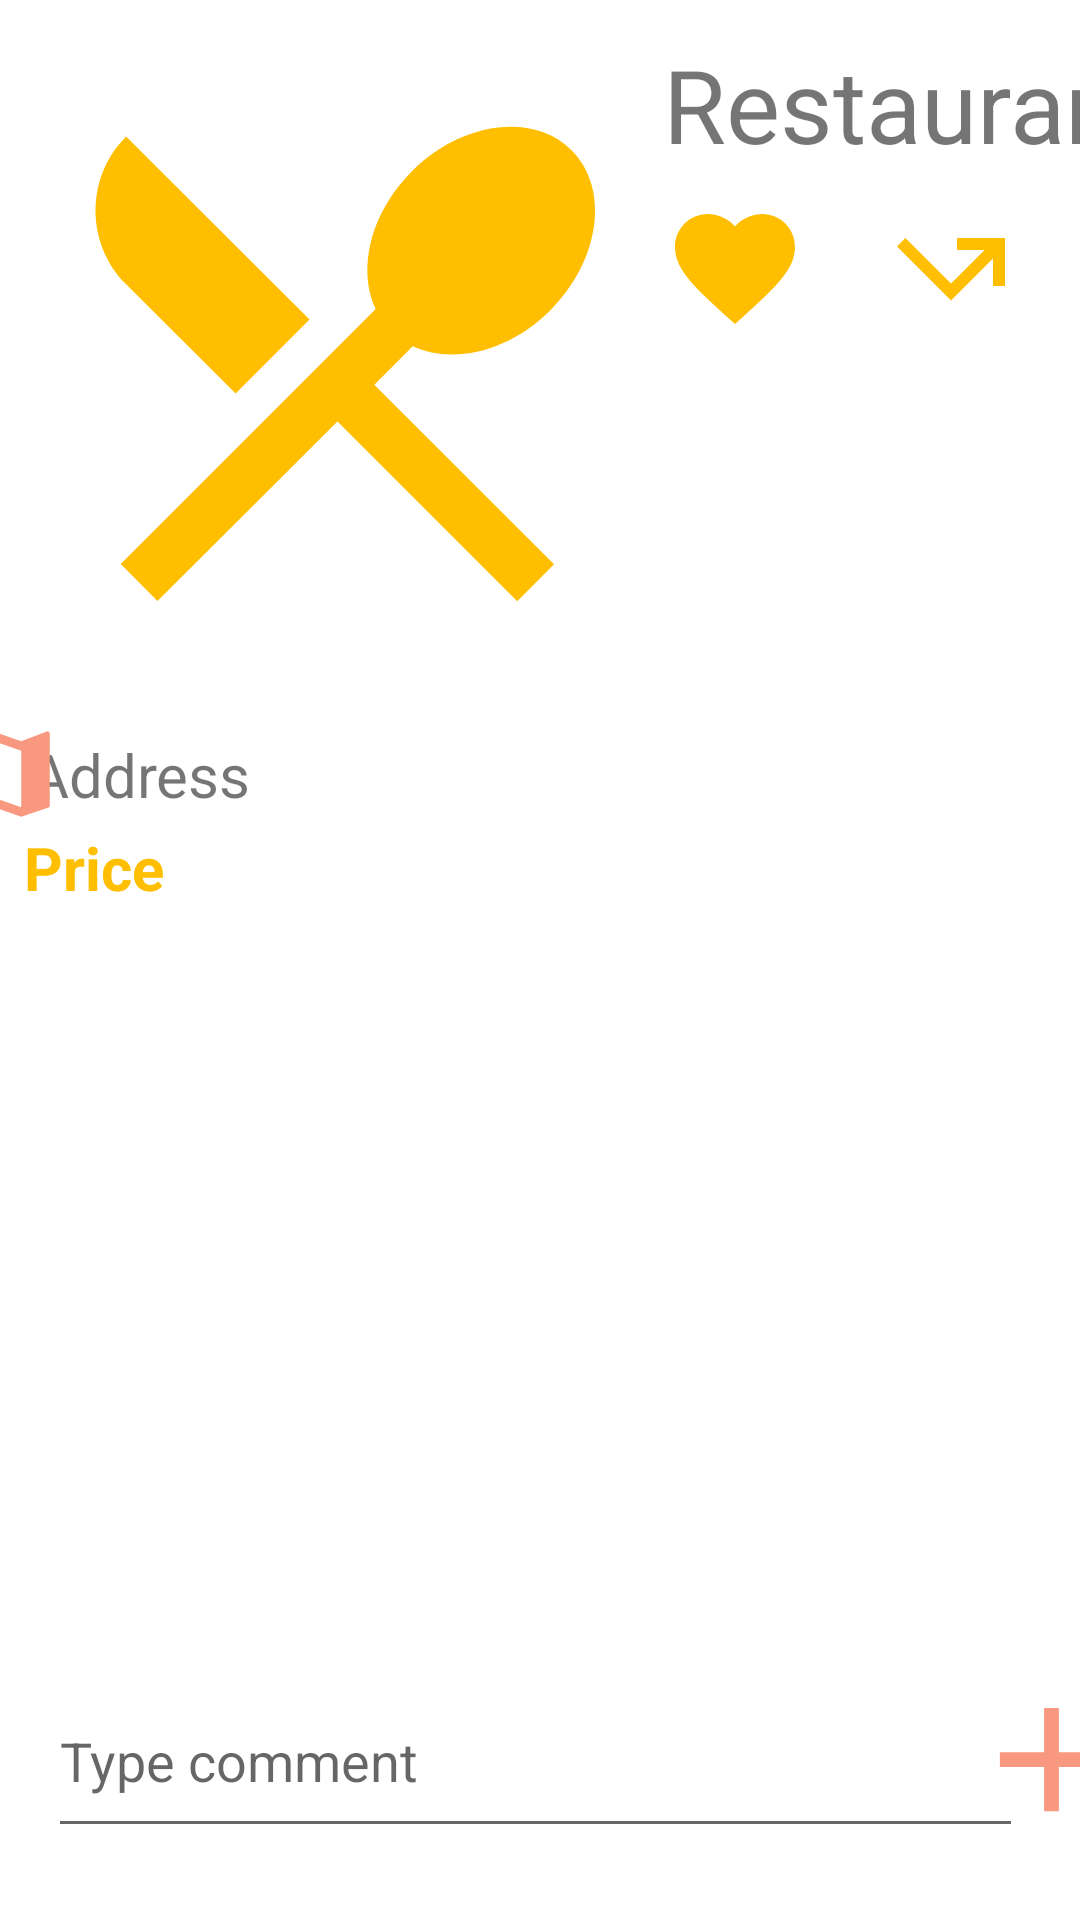

Point at icon controls on the screen. Image size 1080 × 1920, points as [x,y].
call missed outgoing: [951,269]
heart: [735,269]
